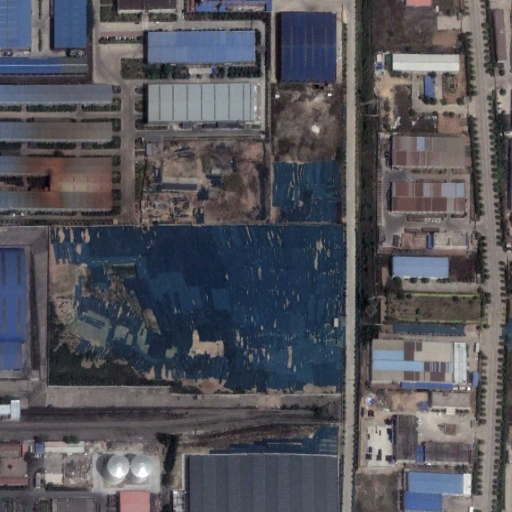cw: (47, 223, 344, 393), (136, 138, 267, 223), (270, 82, 345, 223), (206, 421, 339, 454)
